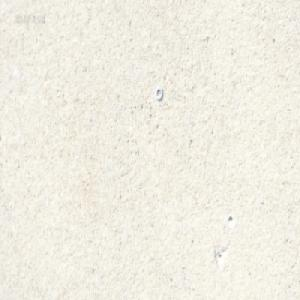Washer: (155, 87, 163, 101)
